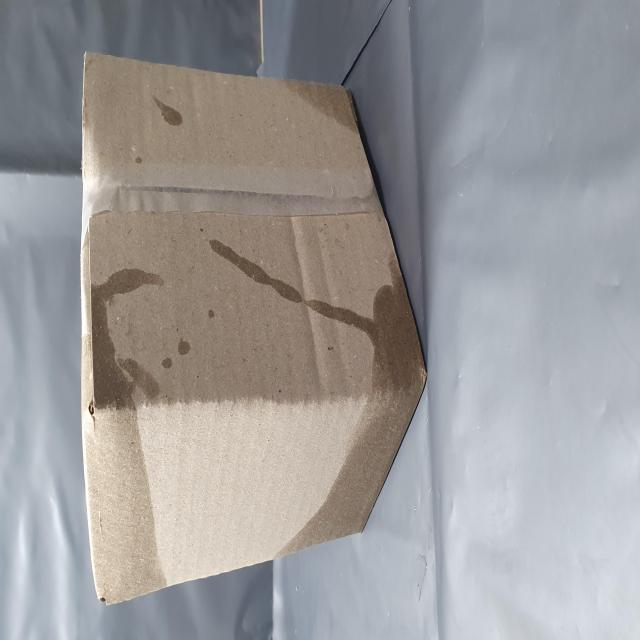wet: (15, 144, 201, 312), (39, 499, 208, 640)
